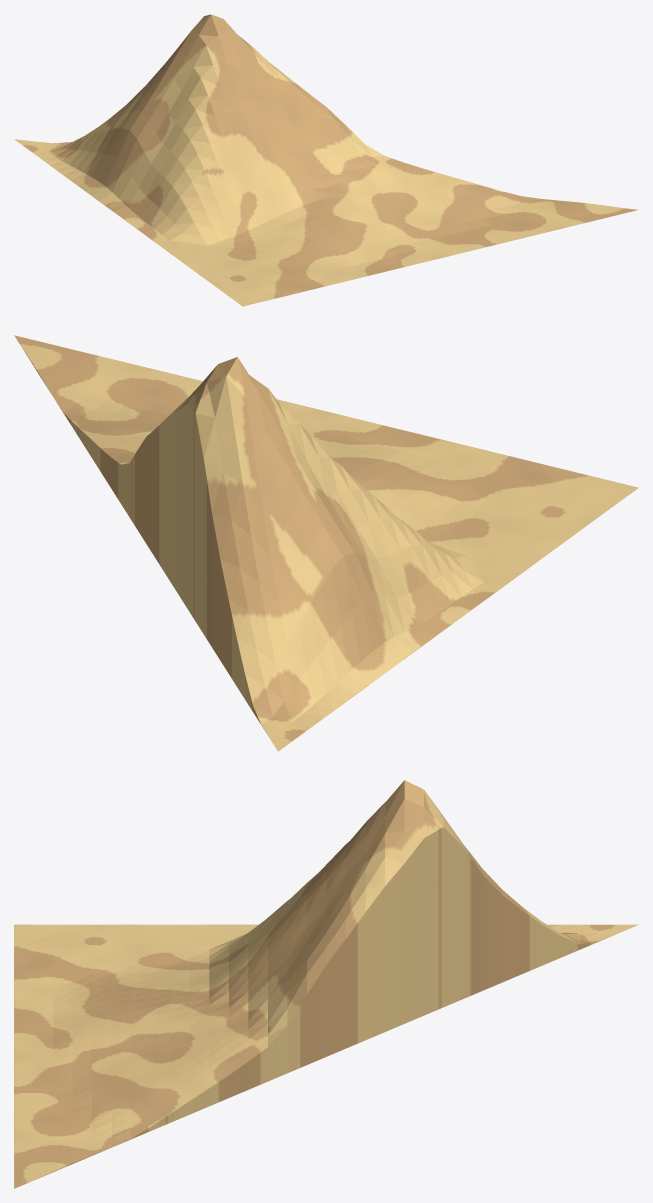
File: Desert_Mountains_08_NW.obj
3 views of the same model, one above another, from view 1: azimuth 30°, elevation 25°; view 2: azimuth 150°, elevation 25°; view 3: azimuth 270°, elevation 25° (orthographic). The views are drawn at different scales.
Bounding box in the file's own units: 10 × 3.87 × 10.
Materials: 1 (1 with a texture image).
